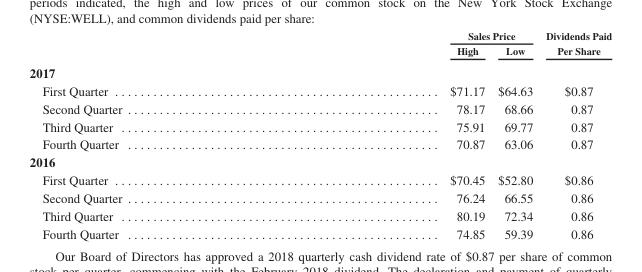table: (28, 29, 611, 240)
table column: (28, 29, 285, 240), (285, 29, 490, 240), (538, 29, 611, 240), (490, 29, 538, 240)
table column header: (28, 29, 611, 60)
table projected row header: (28, 60, 611, 81), (28, 152, 611, 170)
table row: (28, 60, 611, 81), (28, 42, 611, 60), (28, 81, 611, 99), (28, 99, 611, 117), (28, 117, 611, 135), (28, 152, 611, 170), (28, 170, 611, 188), (28, 188, 611, 206), (28, 206, 611, 224), (28, 135, 611, 152), (28, 224, 611, 240), (28, 29, 611, 42)
table spanning cell: (285, 29, 538, 42), (538, 29, 611, 60)
